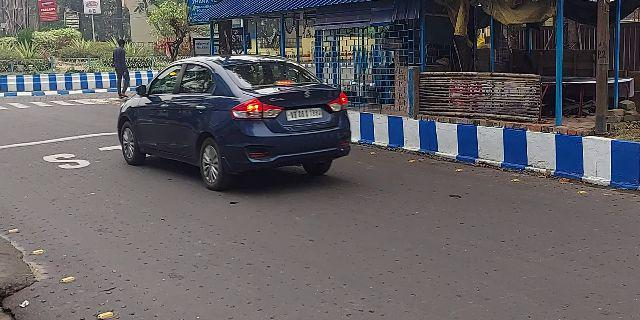Car: (116, 51, 366, 185)
